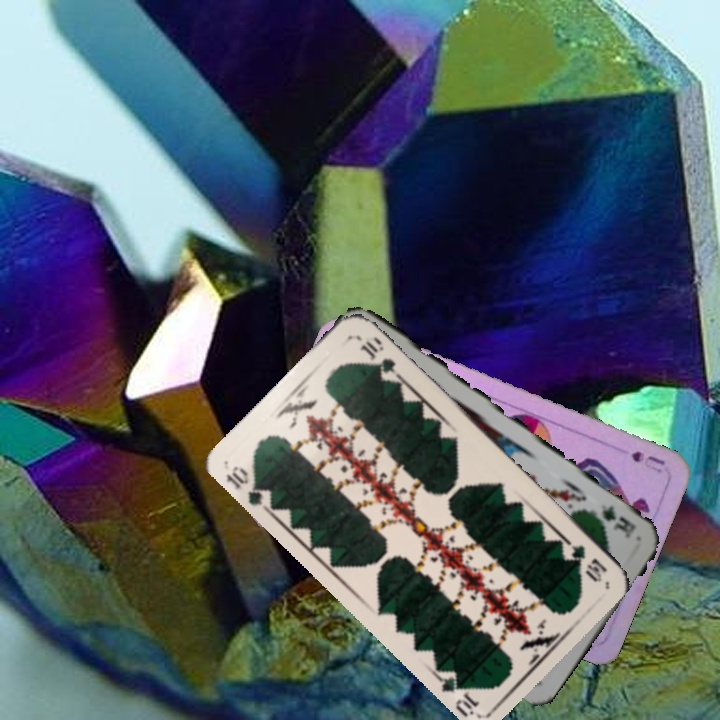G10: (221, 462, 275, 512), (557, 535, 610, 585)
GK: (597, 500, 639, 537)
SU: (627, 447, 668, 476)
